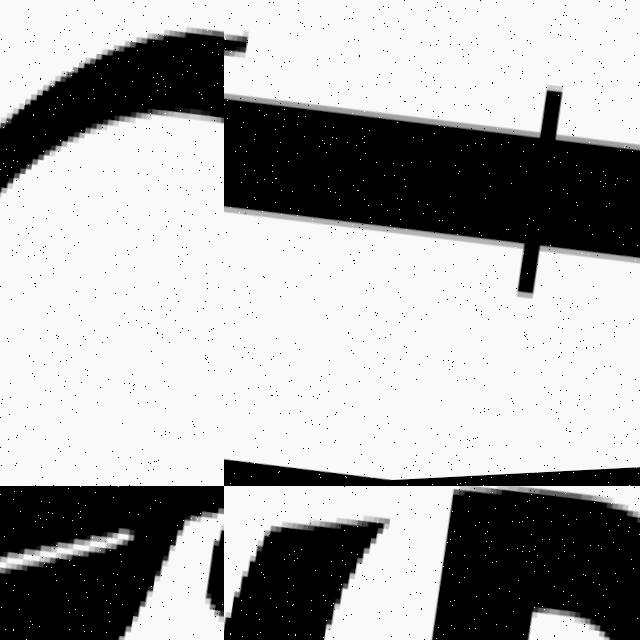2: (0, 0, 224, 437)
A: (0, 486, 224, 640)
E: (430, 486, 640, 640), (224, 520, 389, 640)
T: (224, 0, 640, 350)
